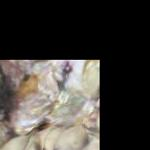alive: (18, 62, 98, 148)
